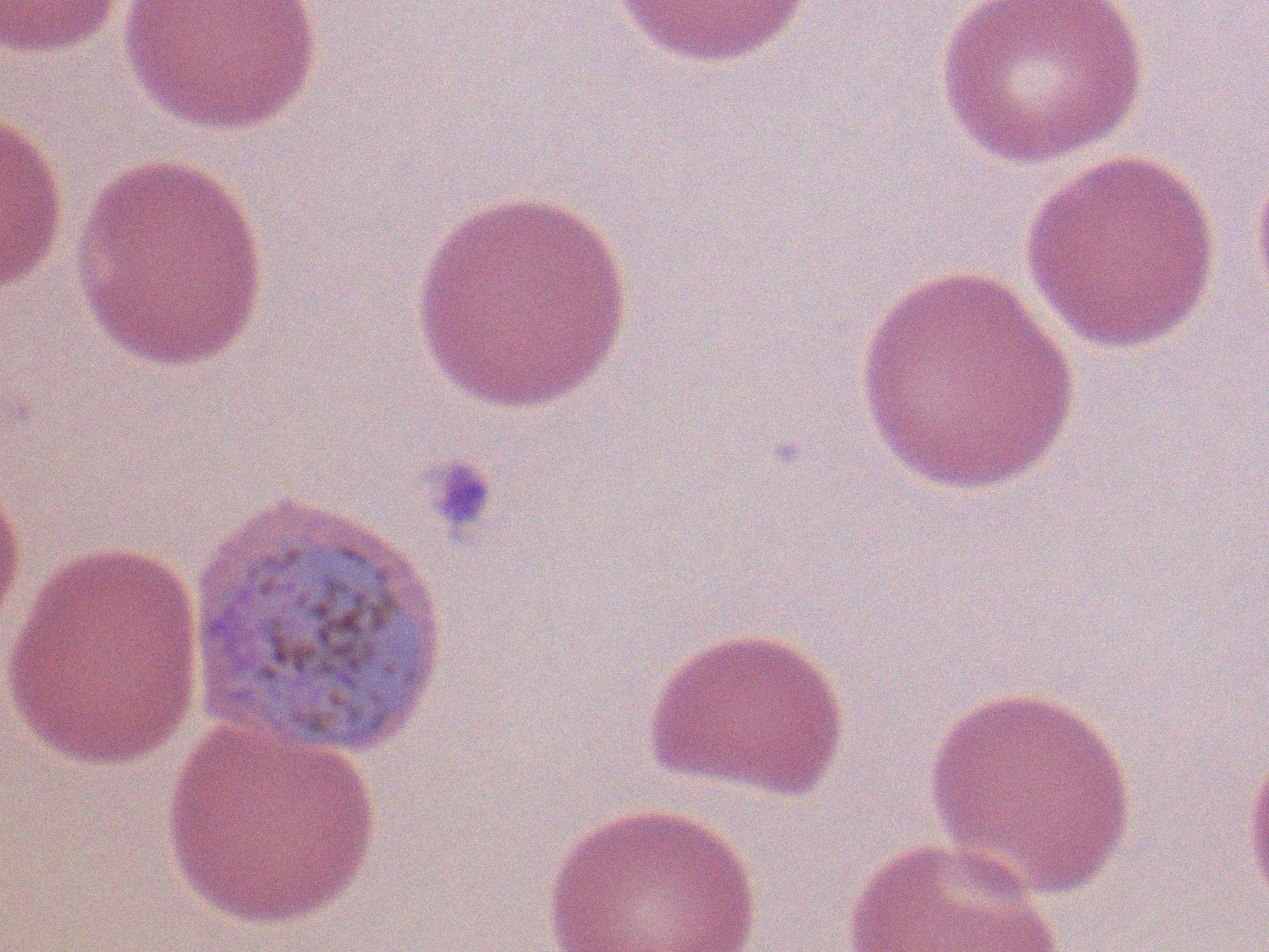Infected: (194, 501, 438, 746)
Uninfected: (866, 276, 1075, 489), (425, 199, 620, 407), (181, 721, 367, 921), (18, 553, 197, 754), (939, 694, 1125, 884), (79, 168, 256, 361), (1031, 157, 1212, 339), (950, 0, 1135, 159), (654, 642, 836, 795), (562, 816, 749, 952), (132, 5, 316, 131), (855, 853, 1053, 952)
